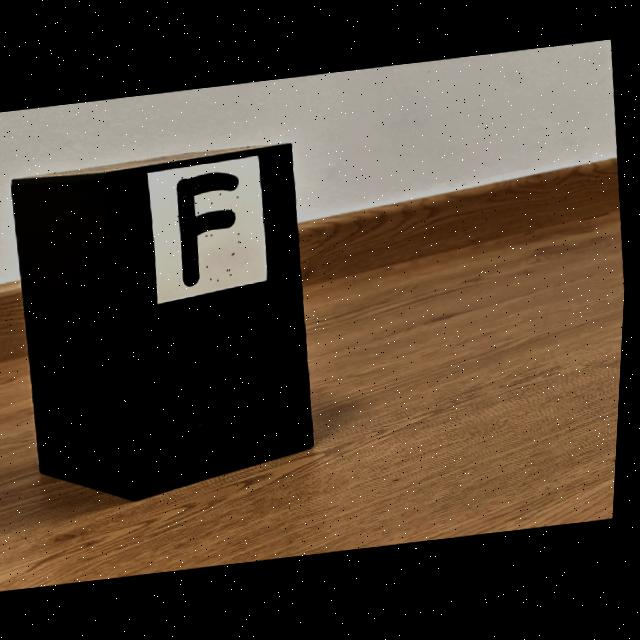F: (178, 173, 239, 286)
